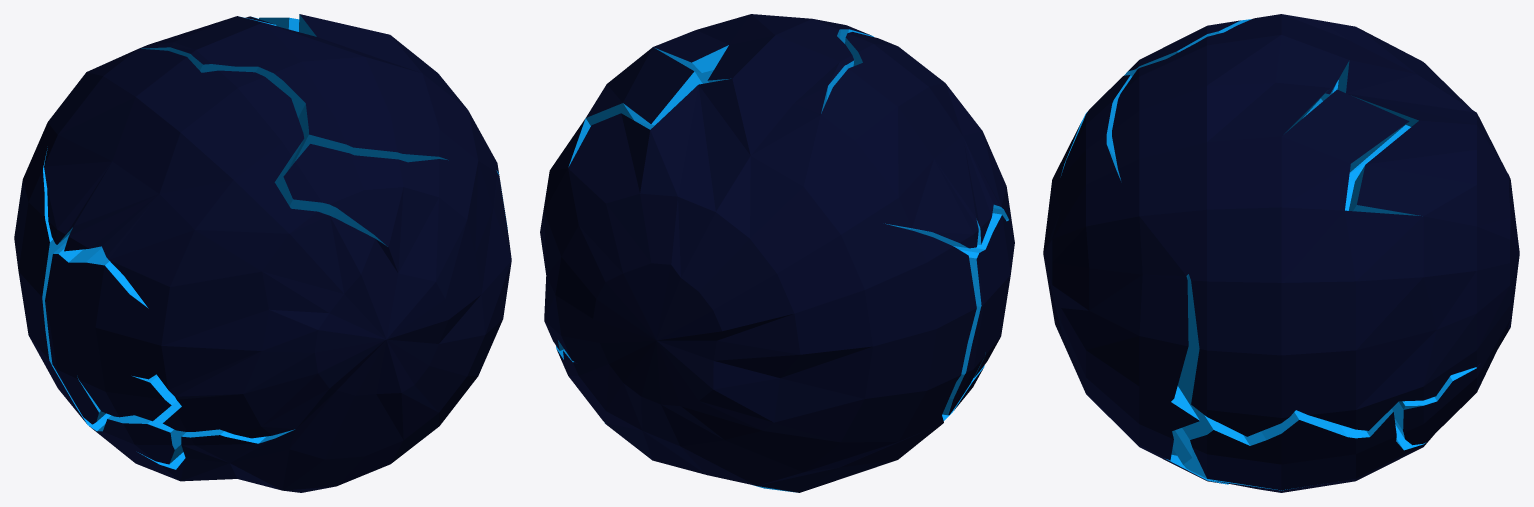
Rendered from boulet.fbx.
The picture shows the model from 3 angles, left to right: view 1: azimuth 30°, elevation 25°; view 2: azimuth 150°, elevation 25°; view 3: azimuth 270°, elevation 25°; orthographic projection. The views are drawn at different scales.
Parts seen in each view (by area): view 1: Boulet2; view 2: Boulet2; view 3: Boulet2.
Part boxes in pixels (<box>): Boulet2: <box>14,14,511,492</box>; Boulet2: <box>540,14,1014,492</box>; Boulet2: <box>1043,14,1519,492</box>.
Size of the model in its own units: 101 by 101 by 100.
